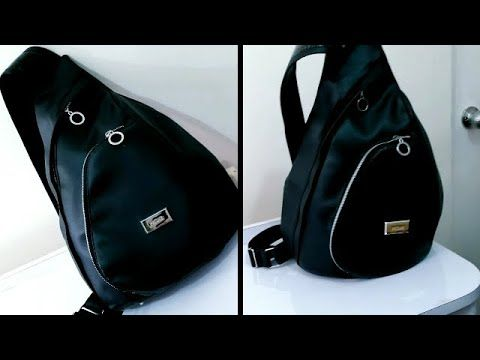cuero: (3, 46, 445, 316)
